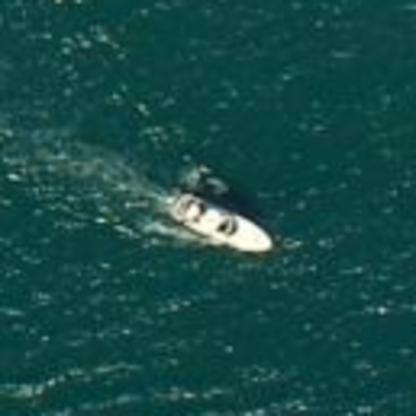ship: (154, 181, 279, 266)
